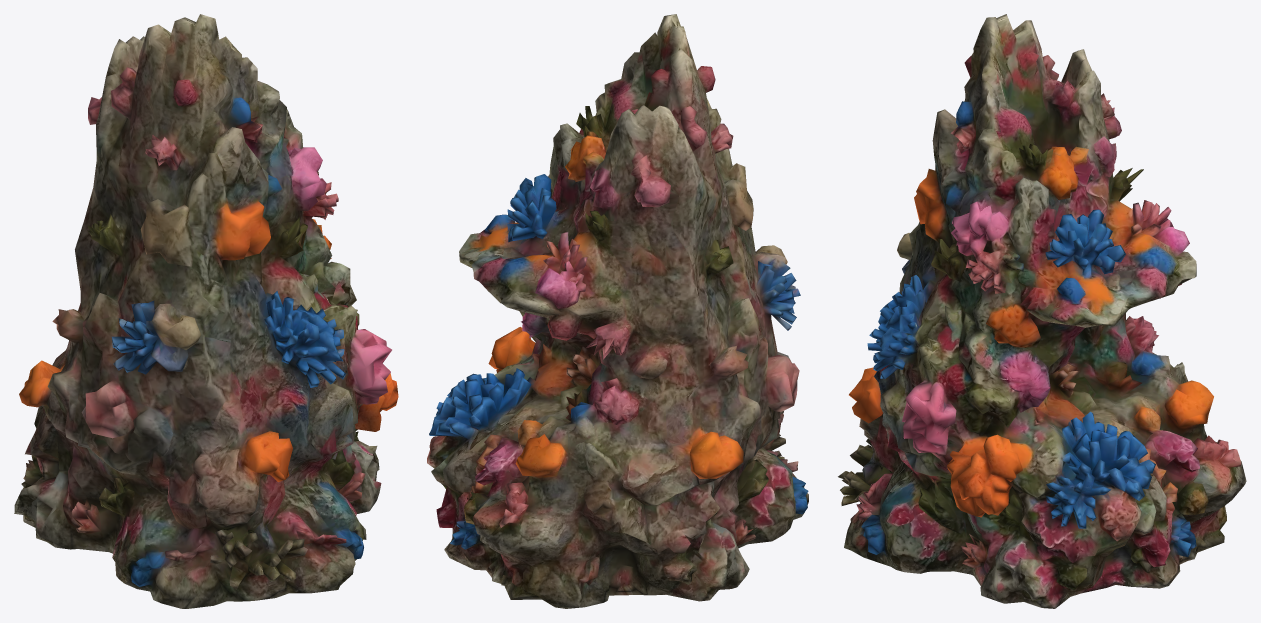
The model's file is korallenfels_b.glb.
3 views of the same model, side by side, from view 1: azimuth 30°, elevation 25°; view 2: azimuth 150°, elevation 25°; view 3: azimuth 270°, elevation 25° (orthographic). The views are drawn at different scales.
Visible parts, largest first — view 1: tripo_node_e952a31a-9f5b-4aba-b336-fdd5a95d8ad7; view 2: tripo_node_e952a31a-9f5b-4aba-b336-fdd5a95d8ad7; view 3: tripo_node_e952a31a-9f5b-4aba-b336-fdd5a95d8ad7.
Part boxes in pixels (<box>): tripo_node_e952a31a-9f5b-4aba-b336-fdd5a95d8ad7: <box>14,14,398,608</box>; tripo_node_e952a31a-9f5b-4aba-b336-fdd5a95d8ad7: <box>427,14,808,608</box>; tripo_node_e952a31a-9f5b-4aba-b336-fdd5a95d8ad7: <box>838,14,1246,608</box>.
Size of the model in its own units: 0.318 by 0.5 by 0.3677.
Materials: 1 (1 with a texture image).
